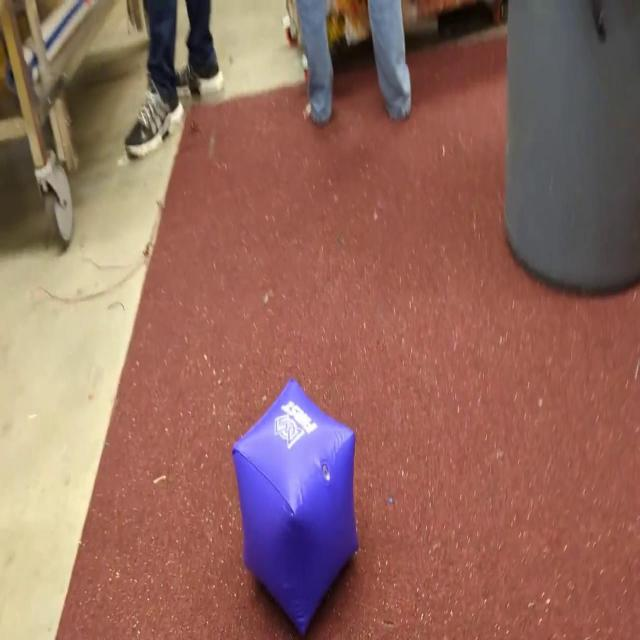frc_cube: (232, 376, 362, 640)
